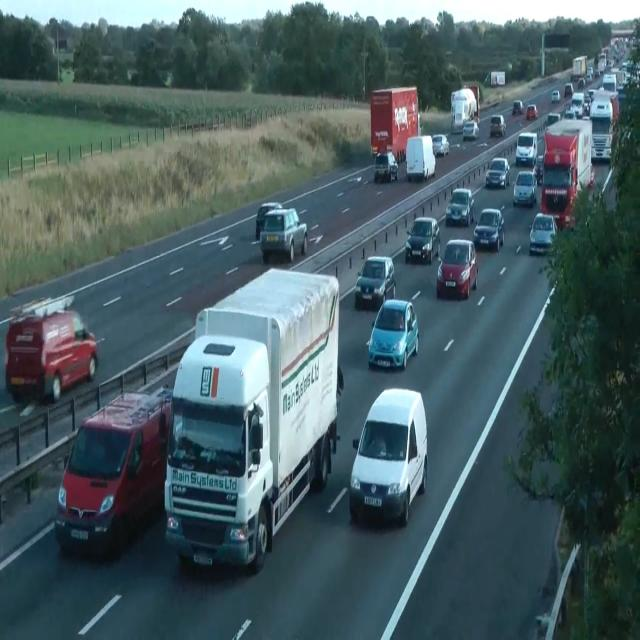bus: (366, 298, 418, 369), (259, 207, 307, 262), (436, 238, 478, 300), (354, 255, 396, 309), (405, 216, 440, 264), (473, 207, 505, 252), (528, 213, 558, 255), (445, 188, 475, 226), (255, 202, 282, 240), (513, 170, 537, 206), (486, 156, 510, 188), (515, 132, 537, 166), (374, 151, 398, 182), (336, 364, 344, 416), (431, 134, 449, 156), (490, 114, 506, 137), (532, 155, 544, 184), (387, 151, 398, 181), (463, 121, 479, 139), (546, 113, 562, 129), (526, 104, 538, 119), (512, 100, 524, 114), (583, 96, 591, 116), (528, 78, 539, 90), (564, 83, 574, 96), (551, 89, 559, 102)
jeep: (54, 385, 172, 557), (349, 387, 427, 526), (5, 293, 99, 403)
minibus: (164, 267, 342, 573), (540, 118, 595, 230), (370, 85, 420, 163), (589, 89, 619, 162), (406, 134, 436, 182), (450, 85, 478, 134), (464, 84, 479, 122), (571, 55, 587, 82), (484, 70, 505, 86)
